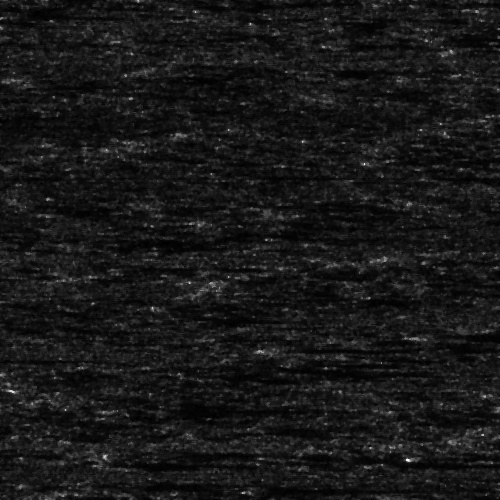object: (377, 329, 482, 340), (215, 343, 320, 352), (235, 485, 288, 490)
shadow: (0, 114, 139, 123), (268, 343, 378, 352), (262, 485, 444, 490), (430, 329, 500, 340)
